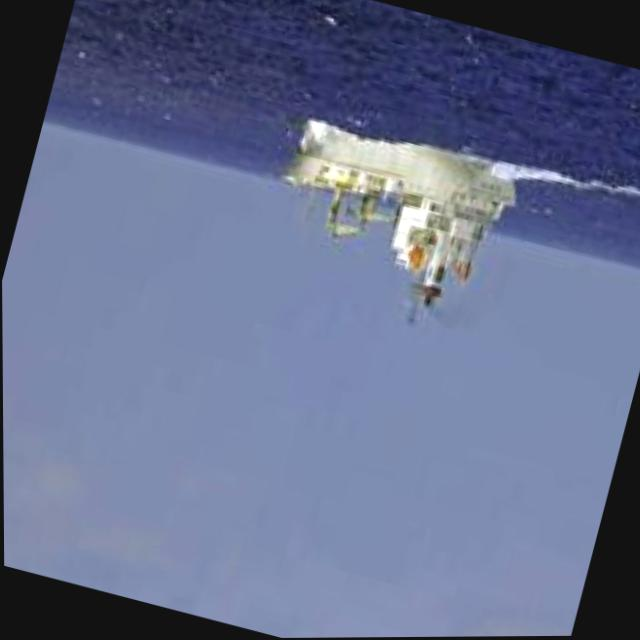ship2: (289, 118, 516, 329)
